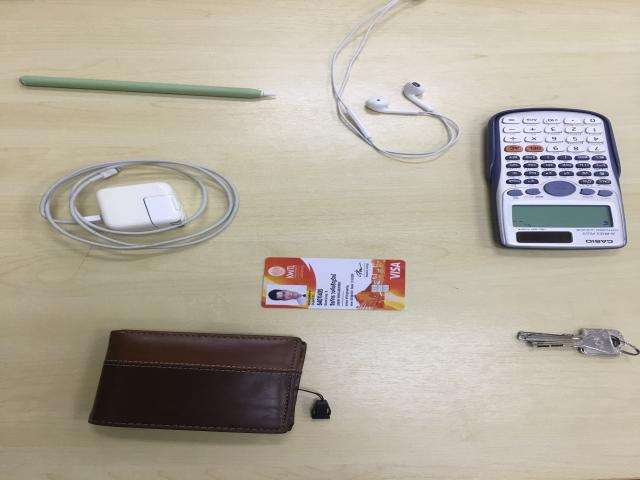Keys: (522, 328, 640, 359)
Wallet: (89, 330, 308, 435)
wire: (329, 0, 461, 166), (41, 162, 237, 254)
